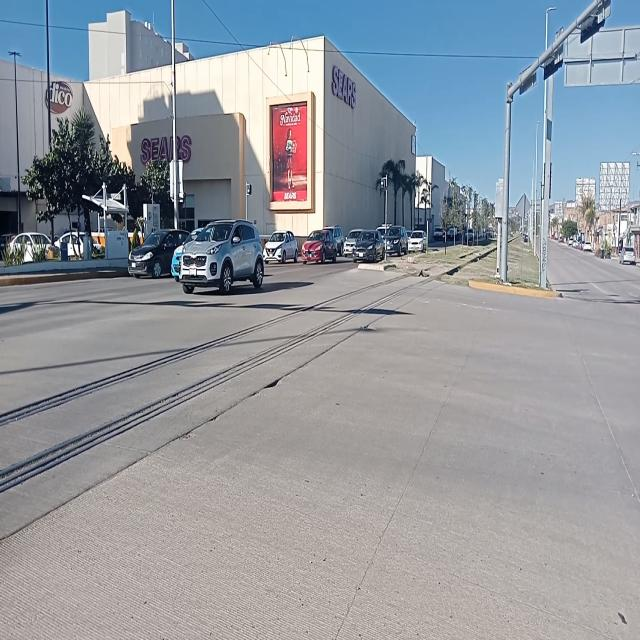Auto: (181, 221, 264, 292), (128, 231, 180, 274), (302, 226, 338, 264), (9, 230, 54, 258), (57, 233, 105, 259), (264, 230, 299, 262), (354, 227, 387, 259), (385, 224, 407, 256), (343, 232, 362, 255), (410, 230, 429, 250), (620, 243, 636, 265)
